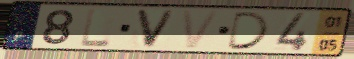4: (274, 12, 310, 53)
8: (42, 9, 76, 46)
D: (224, 11, 272, 51)
L: (79, 7, 113, 48)
V: (134, 8, 178, 50), (180, 9, 222, 50)
